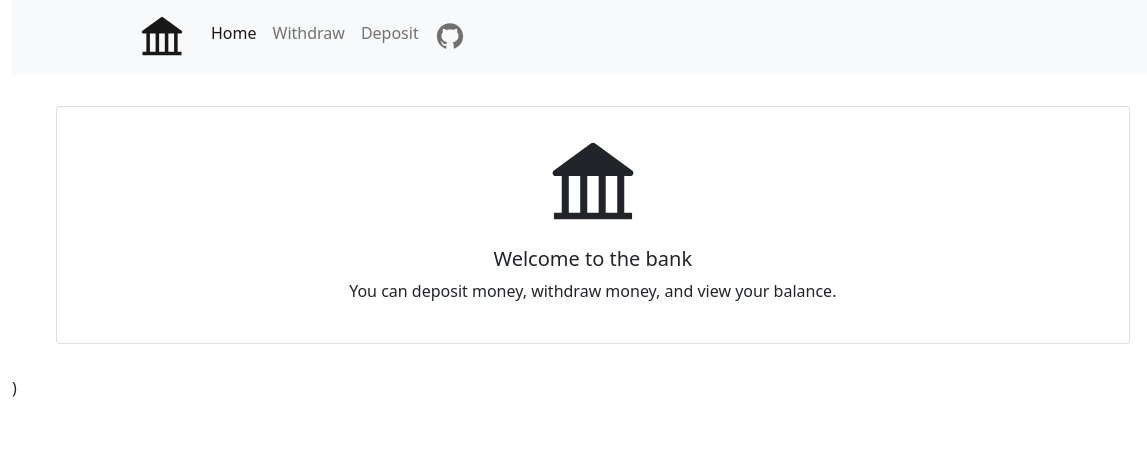
test withdrawal form
Click the link with test id "deposit-link".
click(390, 33)  # box [361,22,419,44]
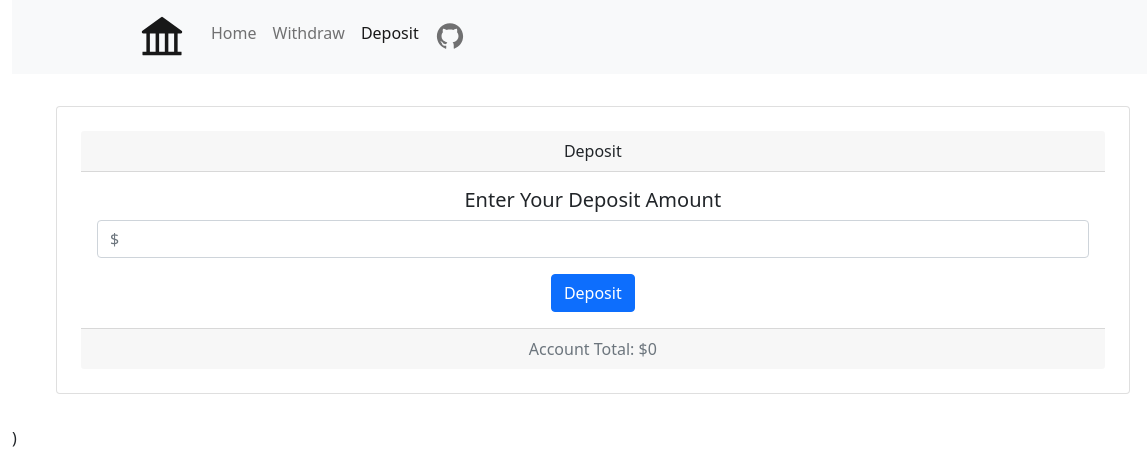
Type "10" into the number field with test id "transaction-input".
click(593, 239); type("10")  # box [97,220,1089,258]
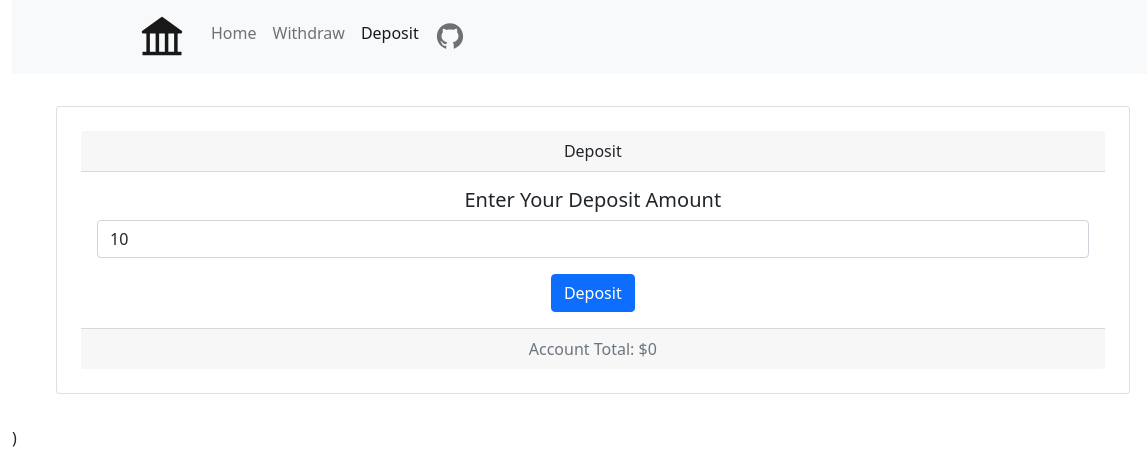
Click the button with test id "transaction-button".
click(593, 293)  # box [551,274,635,312]
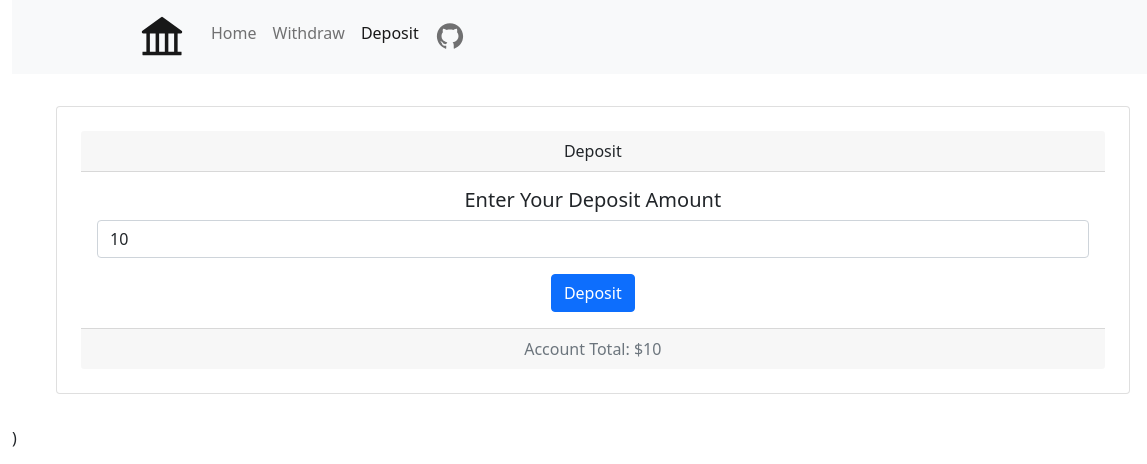
Result: the text "Account Total: $10" is shown at [81,328,1105,369]
Click the link with test id "withdrawal-link".
click(309, 33)  # box [272,22,345,44]
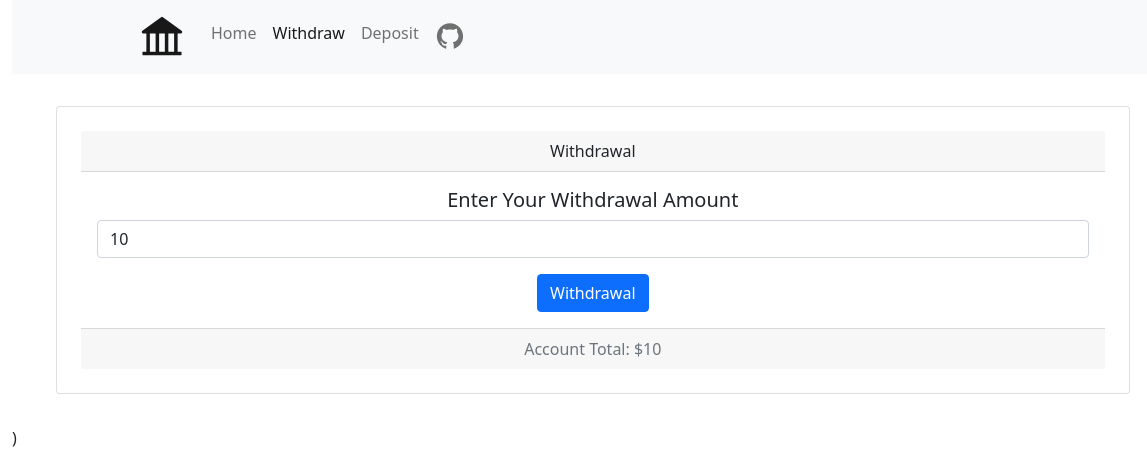
Replace the text in the number field with test id "transaction-input" with "2" at (593, 239), box [97,220,1089,258]
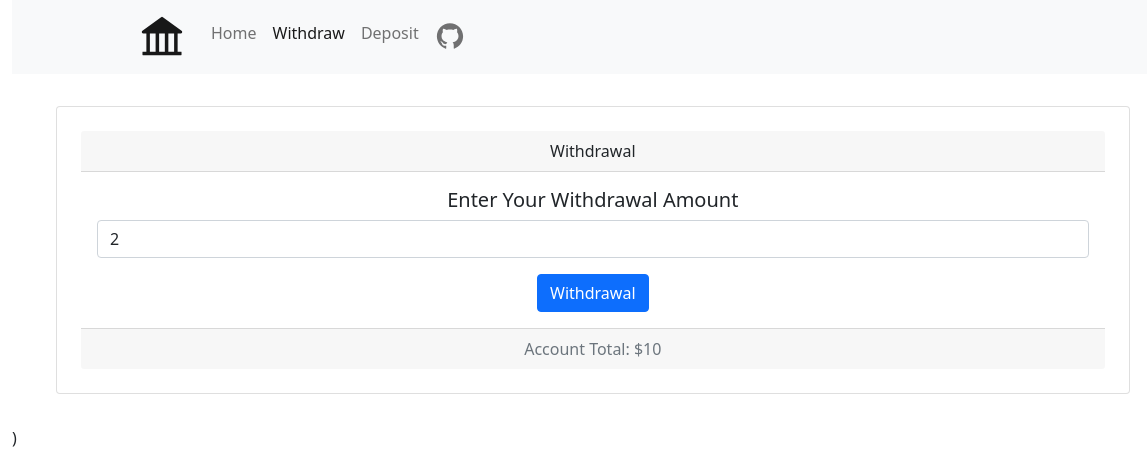
Click the button with test id "transaction-button".
click(593, 293)  # box [537,274,649,312]
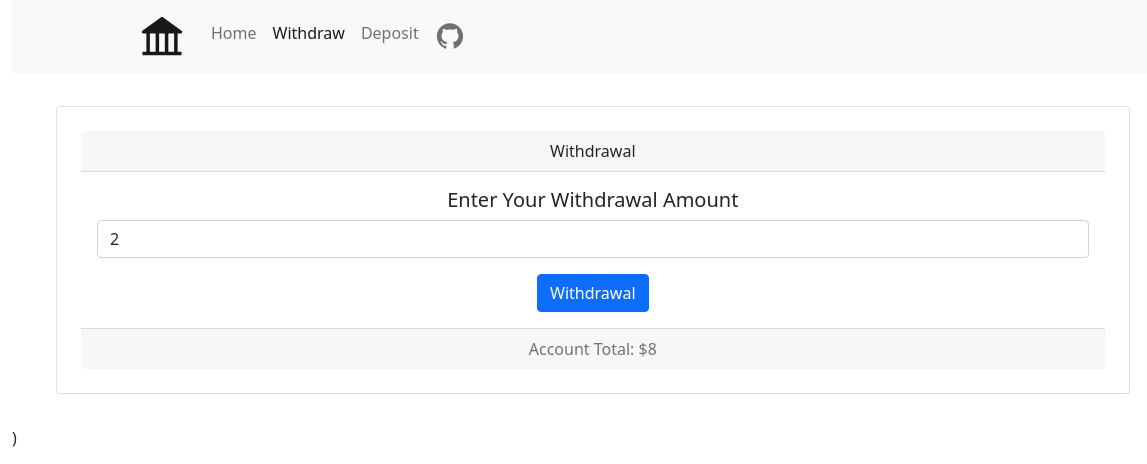
Result: the text "Account Total: $8" is shown at [81,328,1105,369]
